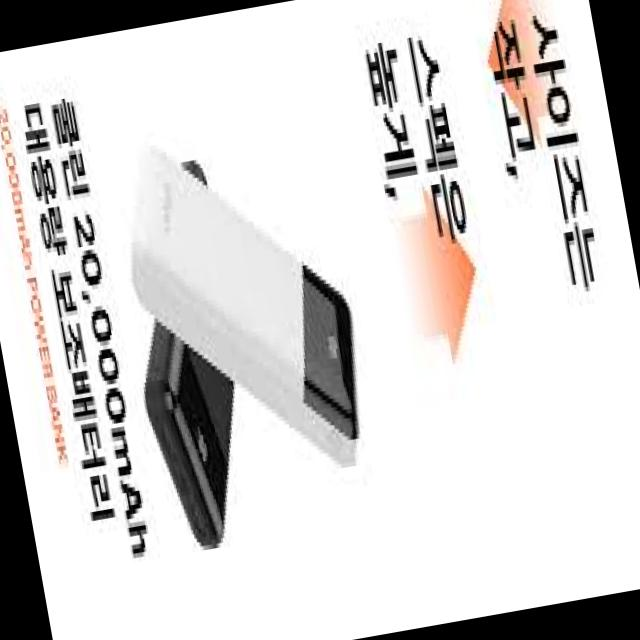power_bank: (106, 107, 380, 499), (100, 146, 280, 560)
